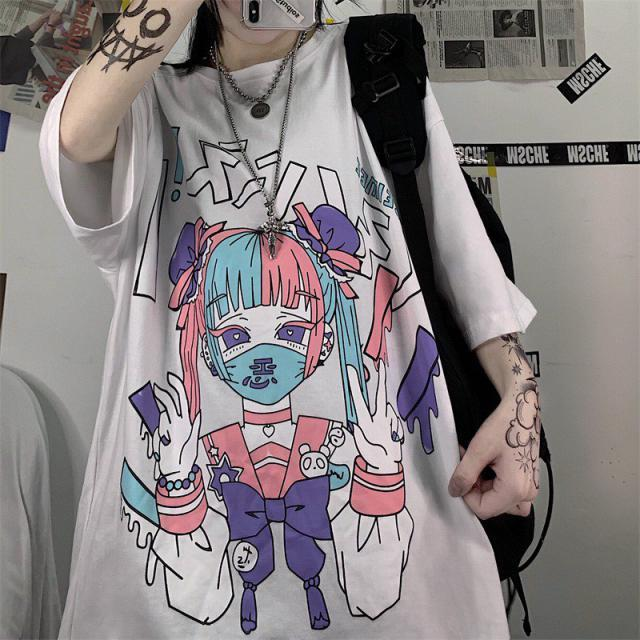Shirt: (41, 19, 536, 639)
